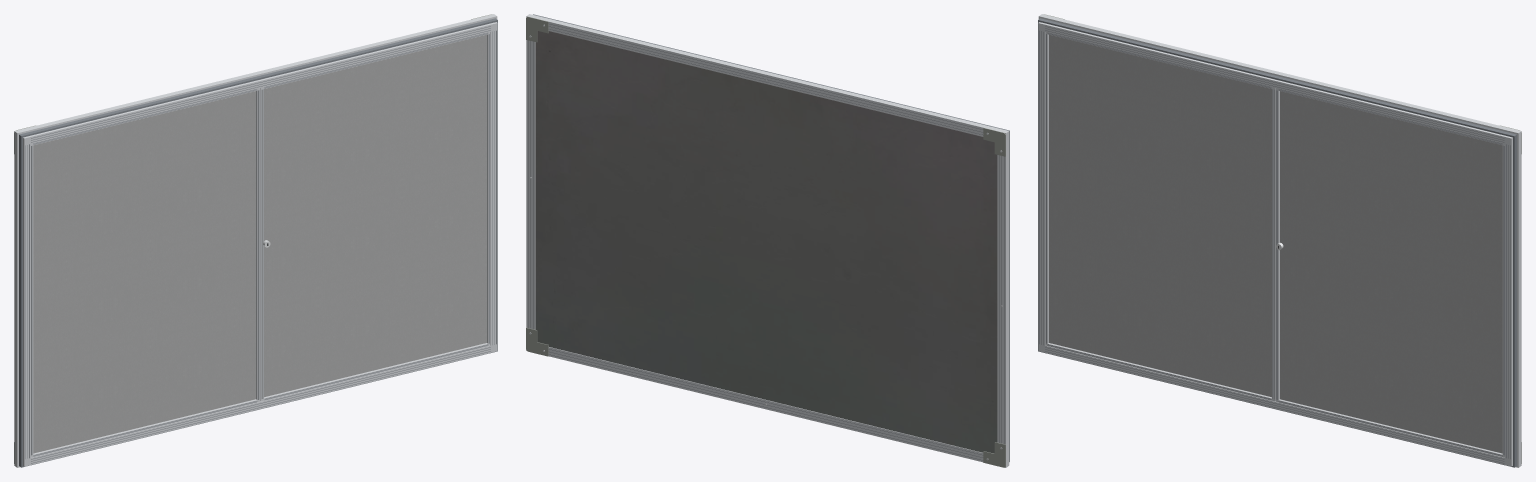
The model's file is deluxe-45mm-adc-notice-board-double-door.glb.
3 renders of one model, left to right at view 1: azimuth 30°, elevation 25°; view 2: azimuth 150°, elevation 25°; view 3: azimuth 330°, elevation 25°, orthographic.
Visible parts, largest first — view 1: fabric-navy, acrylic, aluminium, aluminium-dark; view 2: board-back, aluminium, aluminium-dark, back-plate; view 3: fabric-navy, acrylic, aluminium, aluminium-dark.
Boxes of the visible parts, bbox=[...] form: fabric-navy: bbox=[33, 35, 486, 453]; acrylic: bbox=[34, 35, 486, 452]; aluminium: bbox=[14, 14, 497, 467]; aluminium-dark: bbox=[19, 18, 497, 467]; board-back: bbox=[535, 31, 997, 453]; aluminium: bbox=[526, 14, 1009, 467]; aluminium-dark: bbox=[528, 14, 1009, 461]; back-plate: bbox=[526, 16, 1005, 467]; fabric-navy: bbox=[1049, 35, 1502, 453]; acrylic: bbox=[1049, 35, 1501, 452]; aluminium: bbox=[1038, 14, 1521, 467]; aluminium-dark: bbox=[1038, 18, 1516, 467].
Bounding box in the file's own units: 1.83 × 1.22 × 0.0595.
9 materials, 2 textured.
